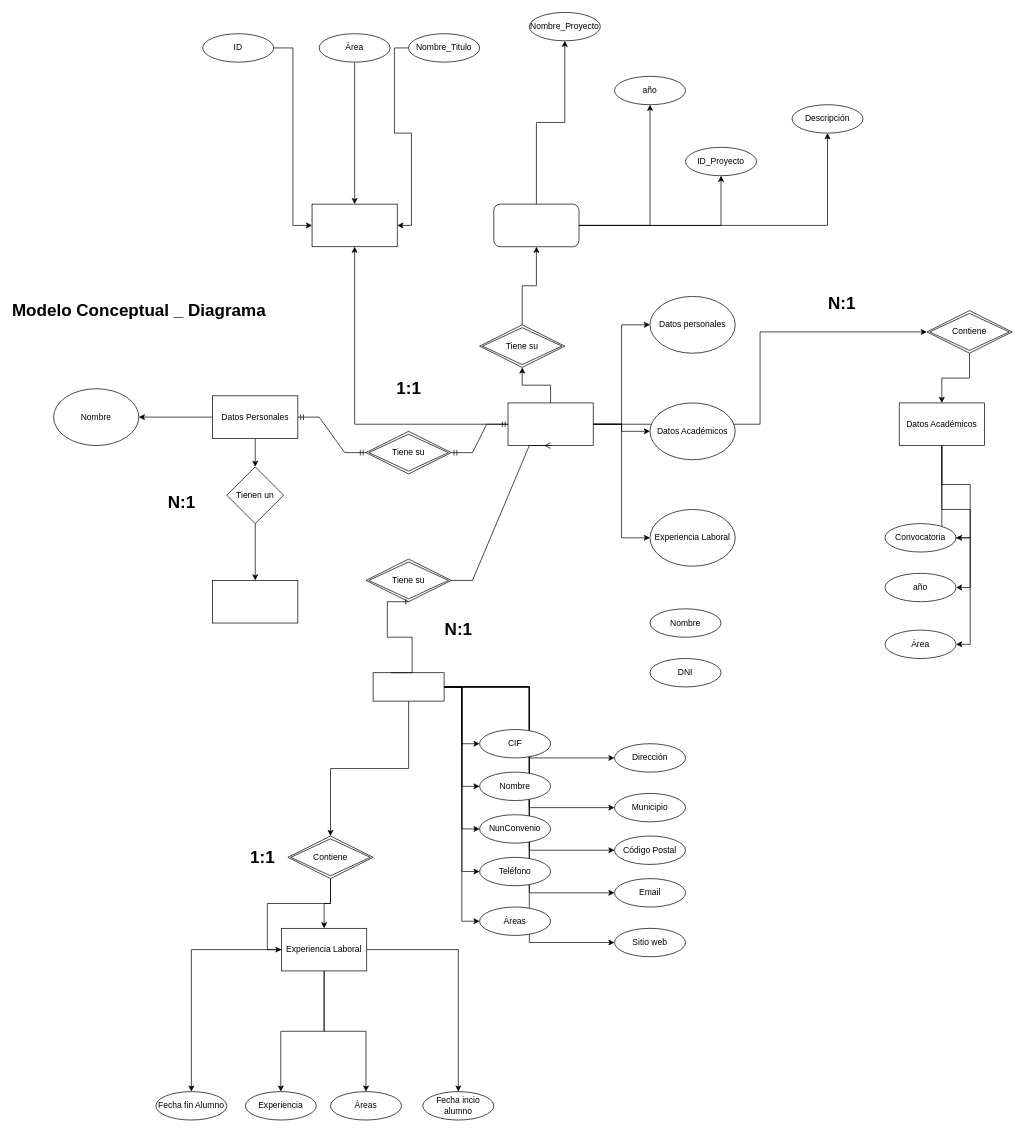
Image size: 1025x1132. Some labels were removed from this diagram. Here are the shapes that lost their labels. From the top down, the box of each, then its label:
(311, 203, 397, 247): Titulación
(493, 203, 579, 247): Proyecto Ciclo
(507, 402, 593, 446): Alumnos
(212, 580, 298, 623): Profesor/tutor
(372, 672, 444, 701): Empresa
